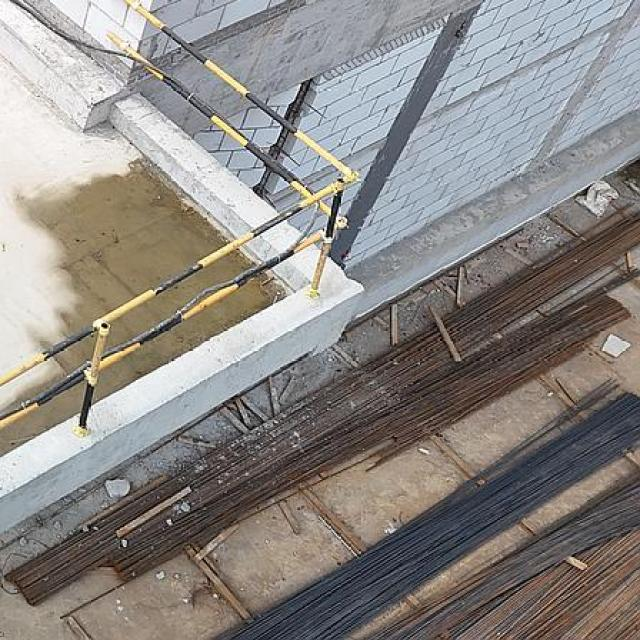edge_guardrail: (0, 0, 361, 433)
